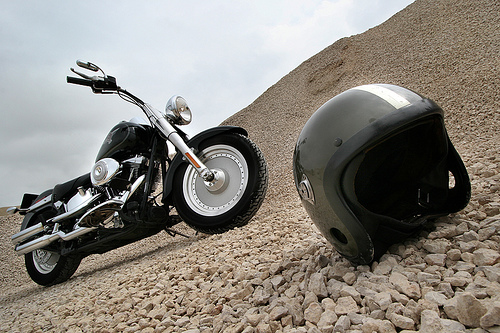helmet: (293, 88, 477, 269)
